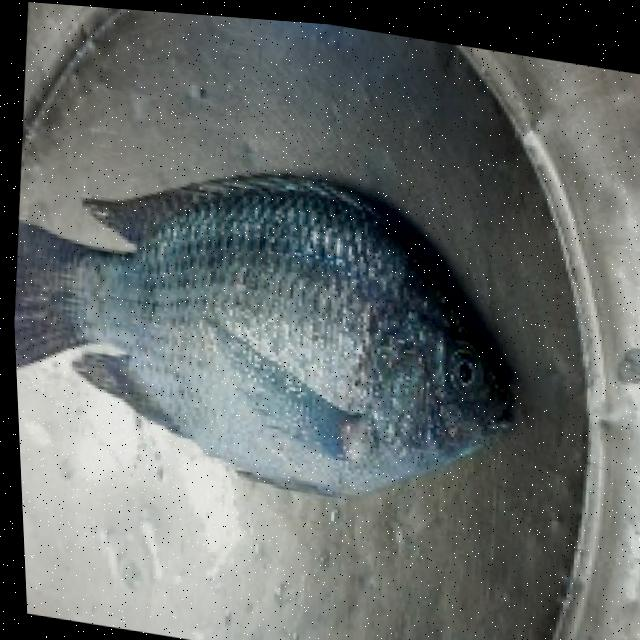Fresh: (4, 124, 533, 534)
